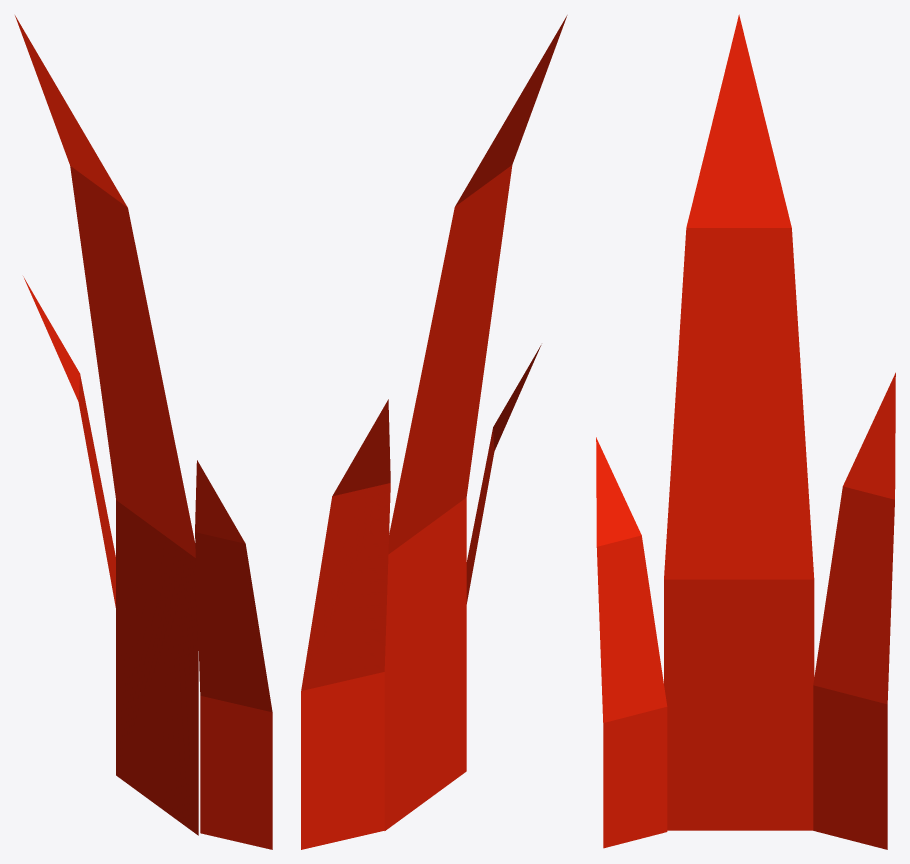
Rendered from Grass_C_004.fbx.
3 renders of one model, left to right at view 1: azimuth 30°, elevation 25°; view 2: azimuth 150°, elevation 25°; view 3: azimuth 270°, elevation 25°, orthographic. The views are drawn at different scales.
Parts seen in each view (by area): view 1: Grass C.004; view 2: Grass C.004; view 3: Grass C.004.
Part boxes in pixels (box(x1,y1,x2,y2)): Grass C.004: box(15, 15, 272, 849); Grass C.004: box(301, 15, 567, 849); Grass C.004: box(596, 14, 895, 849).
Size of the model in its own units: 6.67 by 28.24 by 10.18.
